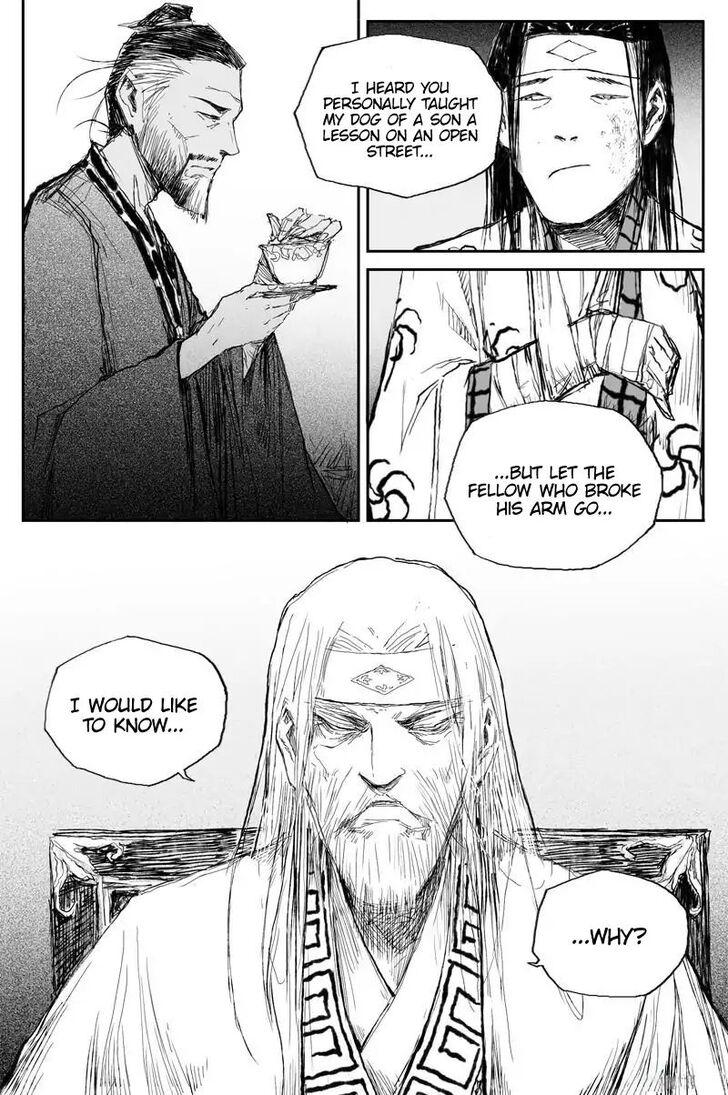Bubble: (442, 399, 664, 572), (293, 32, 504, 199), (42, 634, 229, 789), (530, 867, 690, 999)
